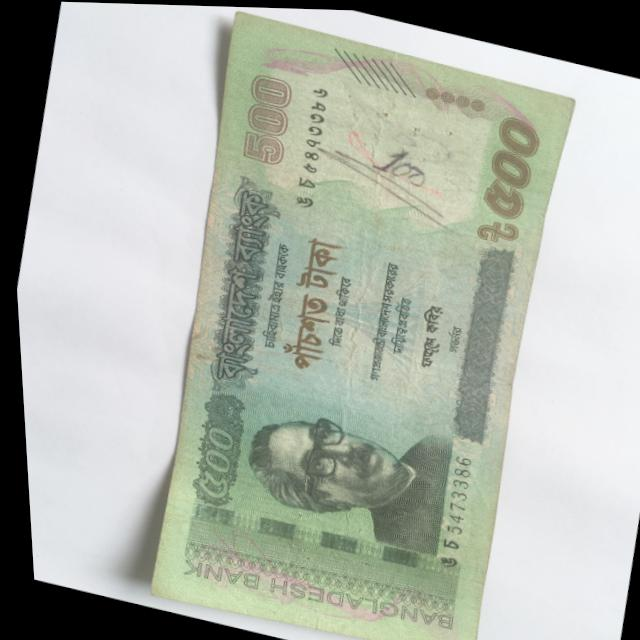Taka: (106, 2, 595, 640)
